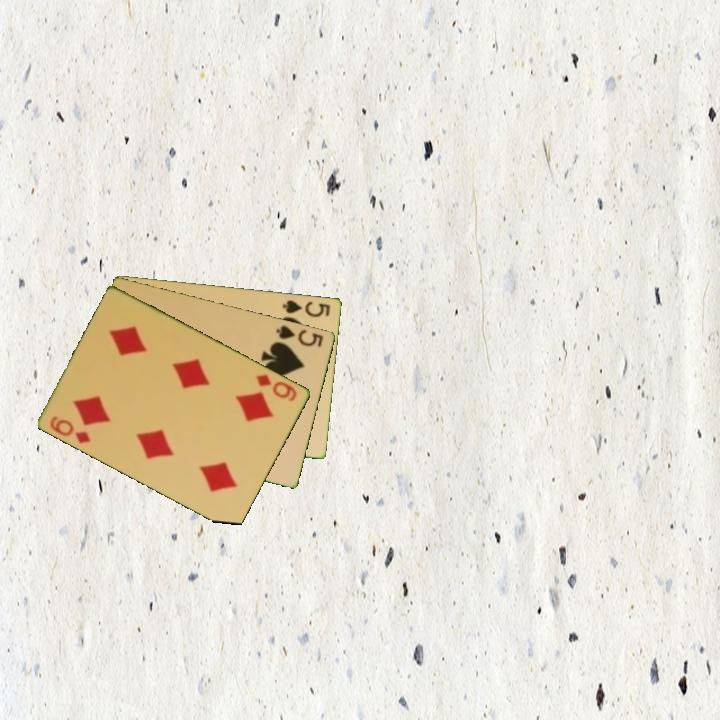5s: (273, 321, 326, 350), (279, 296, 333, 320)
6d: (253, 370, 300, 405), (47, 412, 94, 446)
